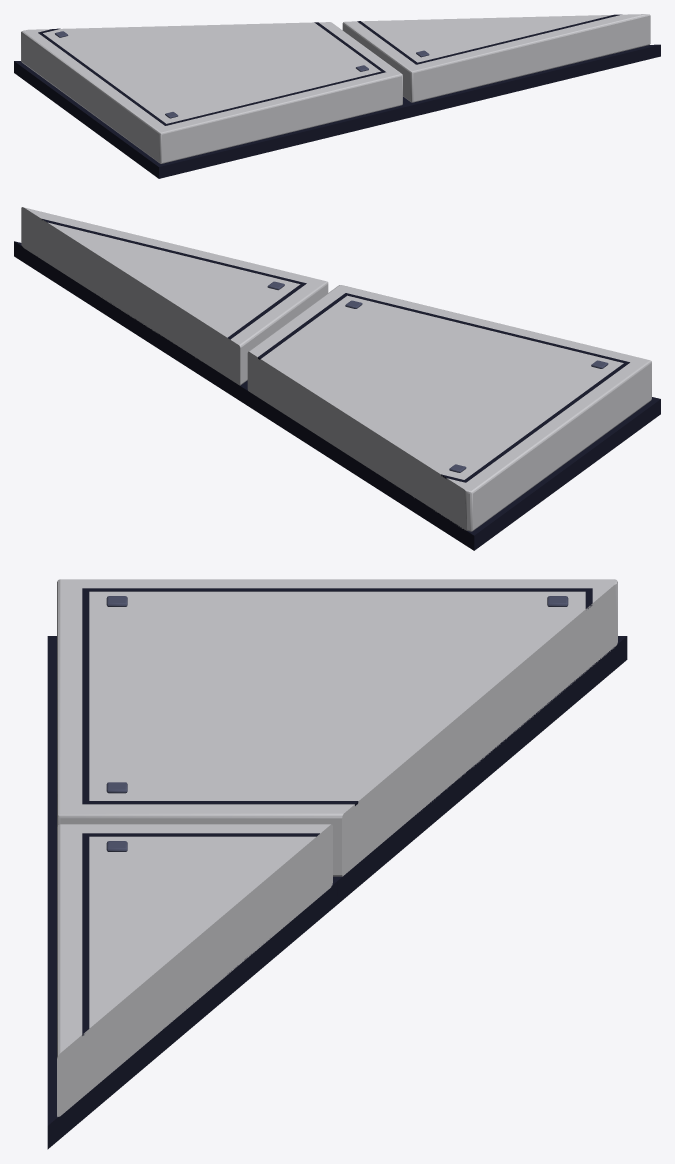
Rendered from roof.slope2.light.glb.
3 renders of one model, top to bottom at view 1: azimuth 30°, elevation 25°; view 2: azimuth 150°, elevation 25°; view 3: azimuth 270°, elevation 25°, orthographic. The views are drawn at different scales.
Visible parts, largest first — view 1: GEO-roof.slope2.light; view 2: GEO-roof.slope2.light; view 3: GEO-roof.slope2.light.
Part boxes in pixels (bbox=[...]): GEO-roof.slope2.light: bbox=[14, 14, 660, 178]; GEO-roof.slope2.light: bbox=[14, 207, 660, 550]; GEO-roof.slope2.light: bbox=[47, 579, 627, 1149].
Size of the model in its own units: 2 by 0.17 by 1.
